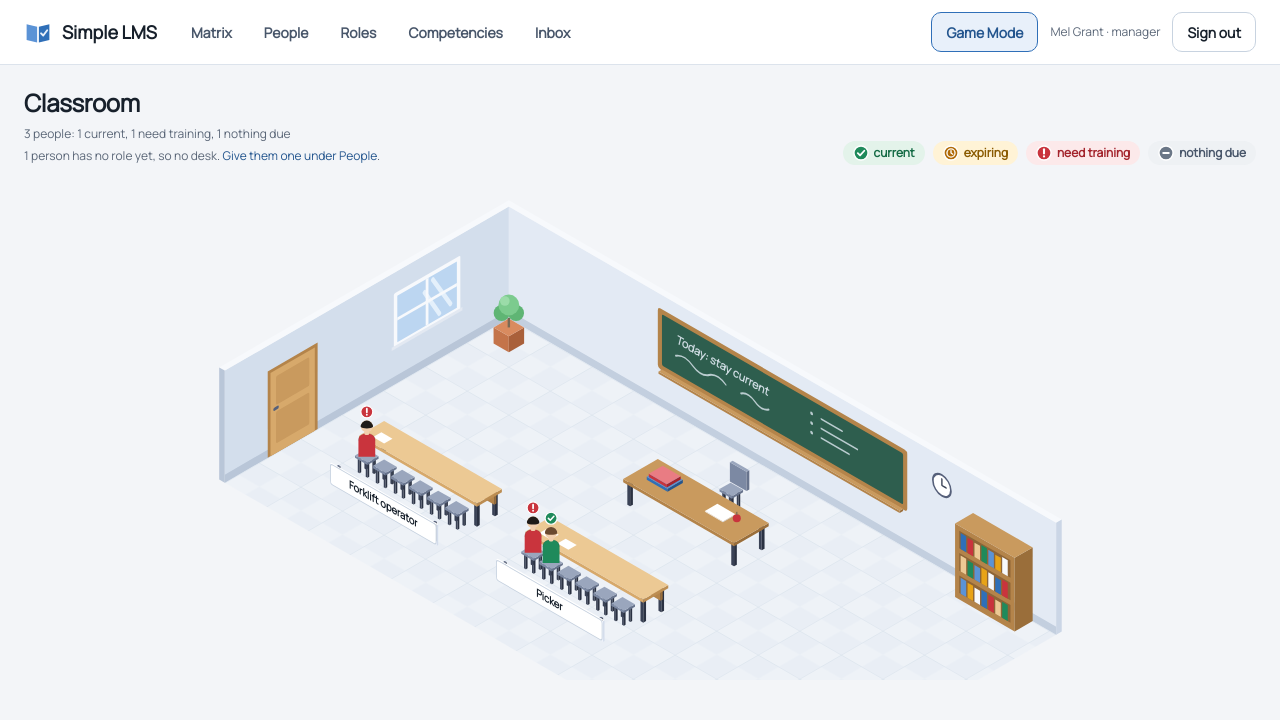
Test: the classroom › opens the matrix at a desk's role
The width and height of the screenshot is (1280, 720).
Click the link with aria-label "Picker: ".
click(549, 601)  # box x1=496 y1=559 x2=603 y2=642
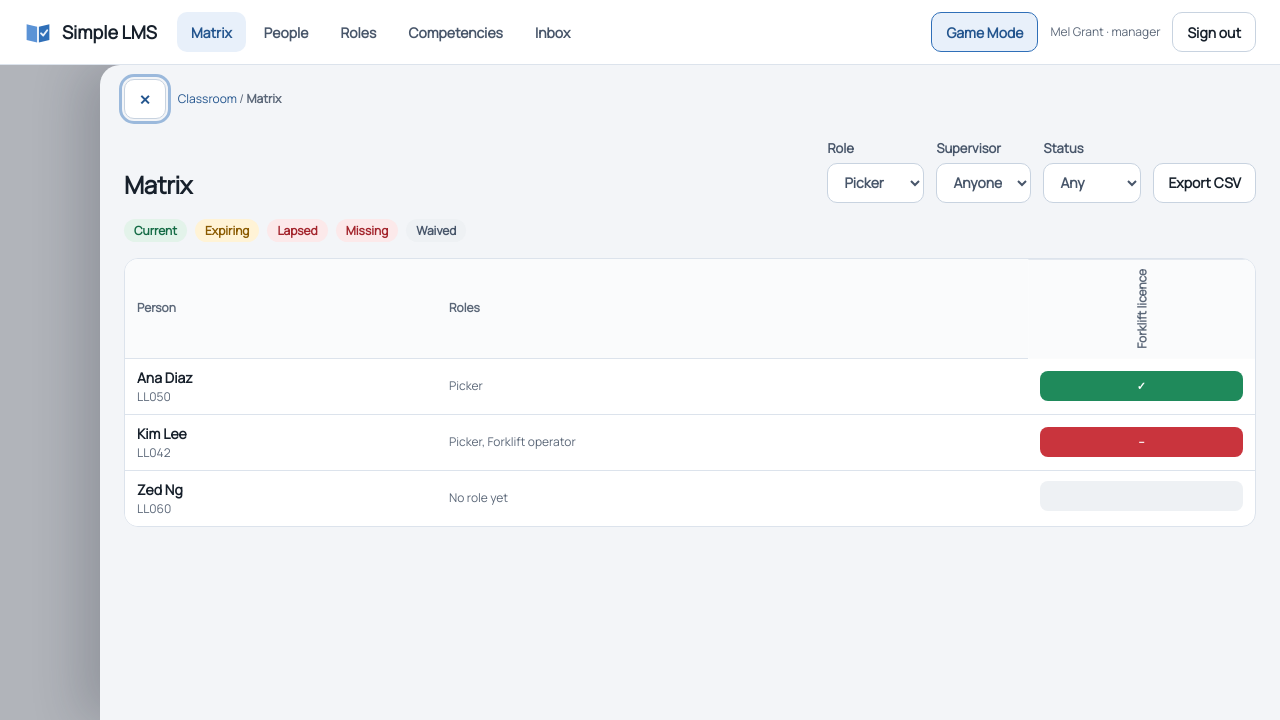
Result: the button named "Kim Lee, Forklift licence: Missing" is shown at x1=1040 y1=427 x2=1243 y2=457
Result: the dropdown labelled "Role" shows "Picker" at x1=827 y1=162 x2=924 y2=202
